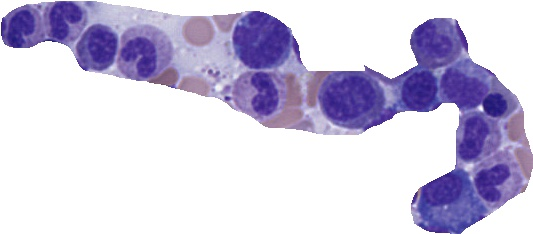objectness: (423, 176, 473, 226), (438, 56, 488, 106), (121, 27, 171, 77), (470, 154, 520, 204), (72, 21, 122, 71), (329, 71, 379, 121), (449, 113, 499, 163), (409, 16, 459, 66), (236, 66, 286, 116), (233, 13, 283, 63), (475, 75, 525, 125), (395, 64, 445, 114), (0, 0, 47, 49), (37, 0, 87, 46)
